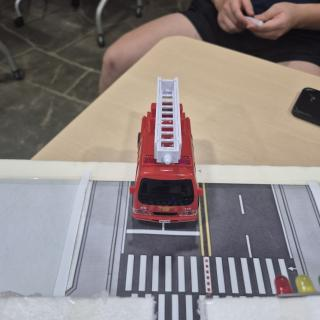Fire_truck: (130, 81, 202, 223)
